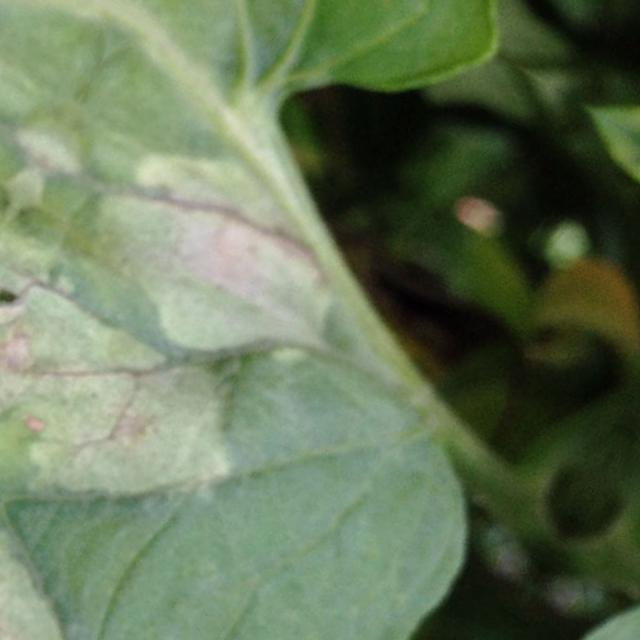Tomato leaf late blight: (0, 162, 590, 640), (0, 0, 434, 606)
